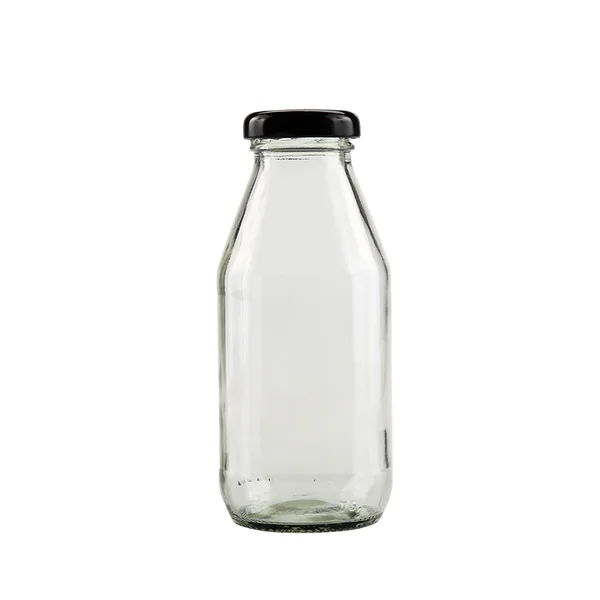glass_bottle: (199, 93, 409, 544)
